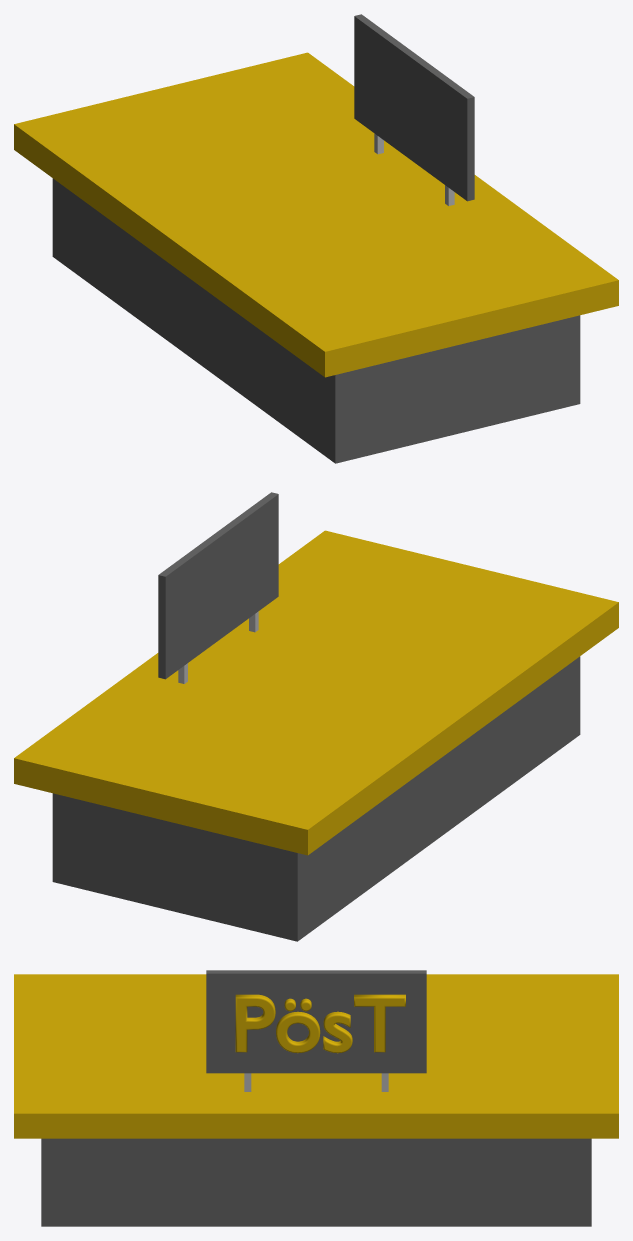
The model's file is Postamt.fbx.
3 renders of one model, top to bottom at view 1: azimuth 30°, elevation 25°; view 2: azimuth 150°, elevation 25°; view 3: azimuth 270°, elevation 25°, orthographic. The views are drawn at different scales.
Parts seen in each view (by area): view 1: Postamt; view 2: Postamt; view 3: Postamt.
Part boxes in pixels (x1,y1,x2,y2): Postamt: (14, 14, 618, 463); Postamt: (14, 492, 618, 941); Postamt: (14, 970, 618, 1226).
Size of the model in its own units: 2400 by 1950 by 4400.
